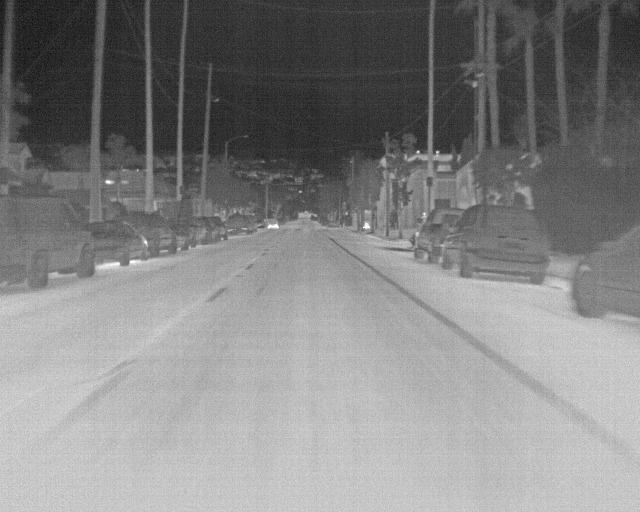car: (2, 192, 97, 288), (440, 206, 549, 285), (572, 224, 639, 320), (409, 207, 468, 263), (94, 218, 149, 267), (141, 211, 177, 255), (227, 212, 255, 235), (177, 217, 193, 252), (195, 214, 212, 245), (213, 216, 229, 244), (268, 217, 278, 230)
